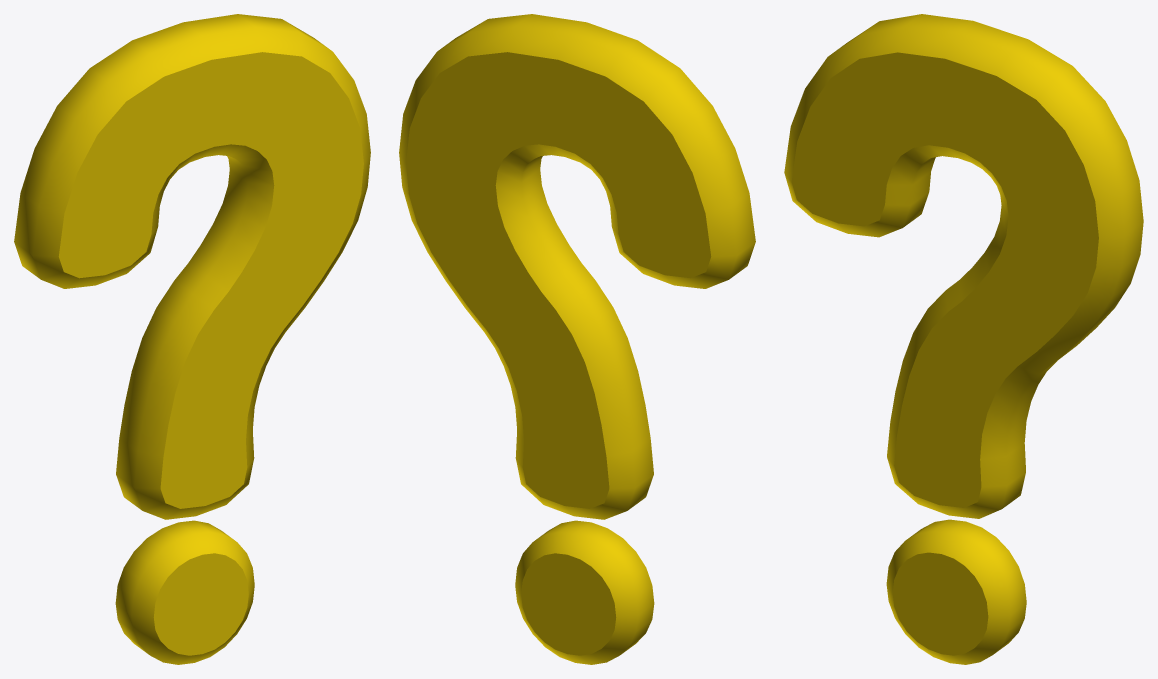
The model's file is questionmark.fbx.
The picture shows the model from 3 angles, left to right: view 1: azimuth 30°, elevation 25°; view 2: azimuth 150°, elevation 25°; view 3: azimuth 330°, elevation 25°; orthographic projection.
Parts seen in each view (by area): view 1: Text; view 2: Text; view 3: Text.
Part boxes in pixels (<box>): Text: <box>14,14,370,664</box>; Text: <box>399,14,755,664</box>; Text: <box>784,14,1143,664</box>.
Size of the model in its own units: 41.69 by 73.82 by 8.
